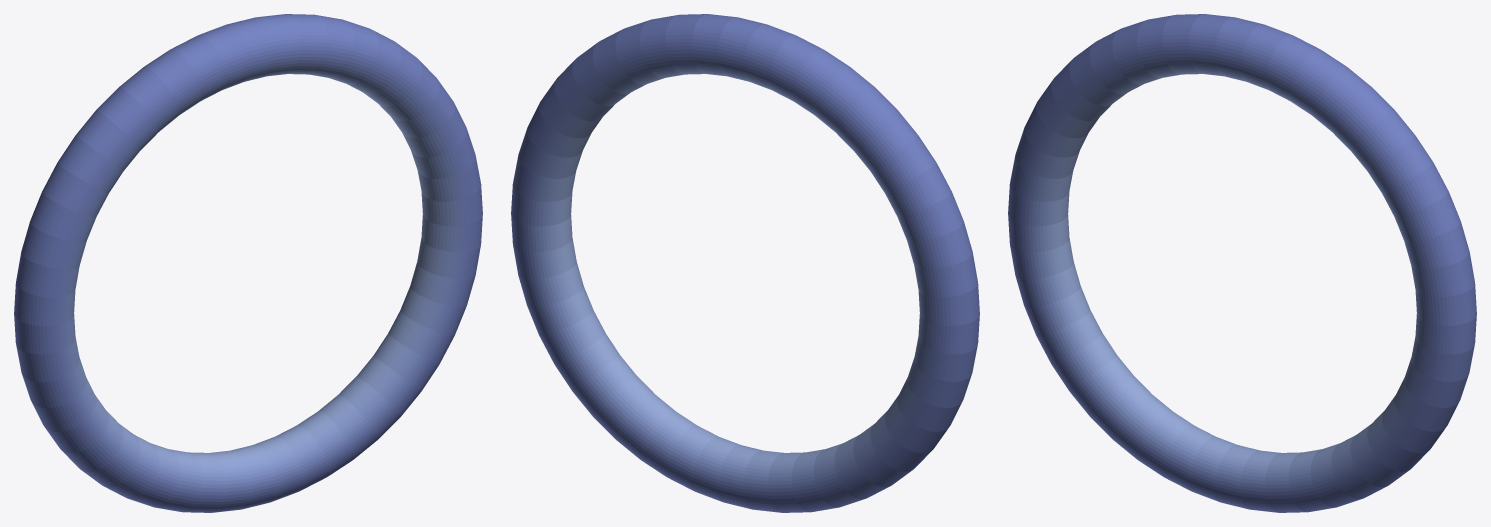
3 views of the same model, side by side, from view 1: azimuth 30°, elevation 25°; view 2: azimuth 150°, elevation 25°; view 3: azimuth 330°, elevation 25° (orthographic).
Visible parts, largest first — view 1: world; view 2: world; view 3: world.
Part boxes in pixels (bbox=[...]): world: bbox=[14, 14, 482, 512]; world: bbox=[511, 14, 979, 512]; world: bbox=[1008, 14, 1476, 512].
Bounding box in the file's own units: 24.8 × 24.75 × 2.79.
